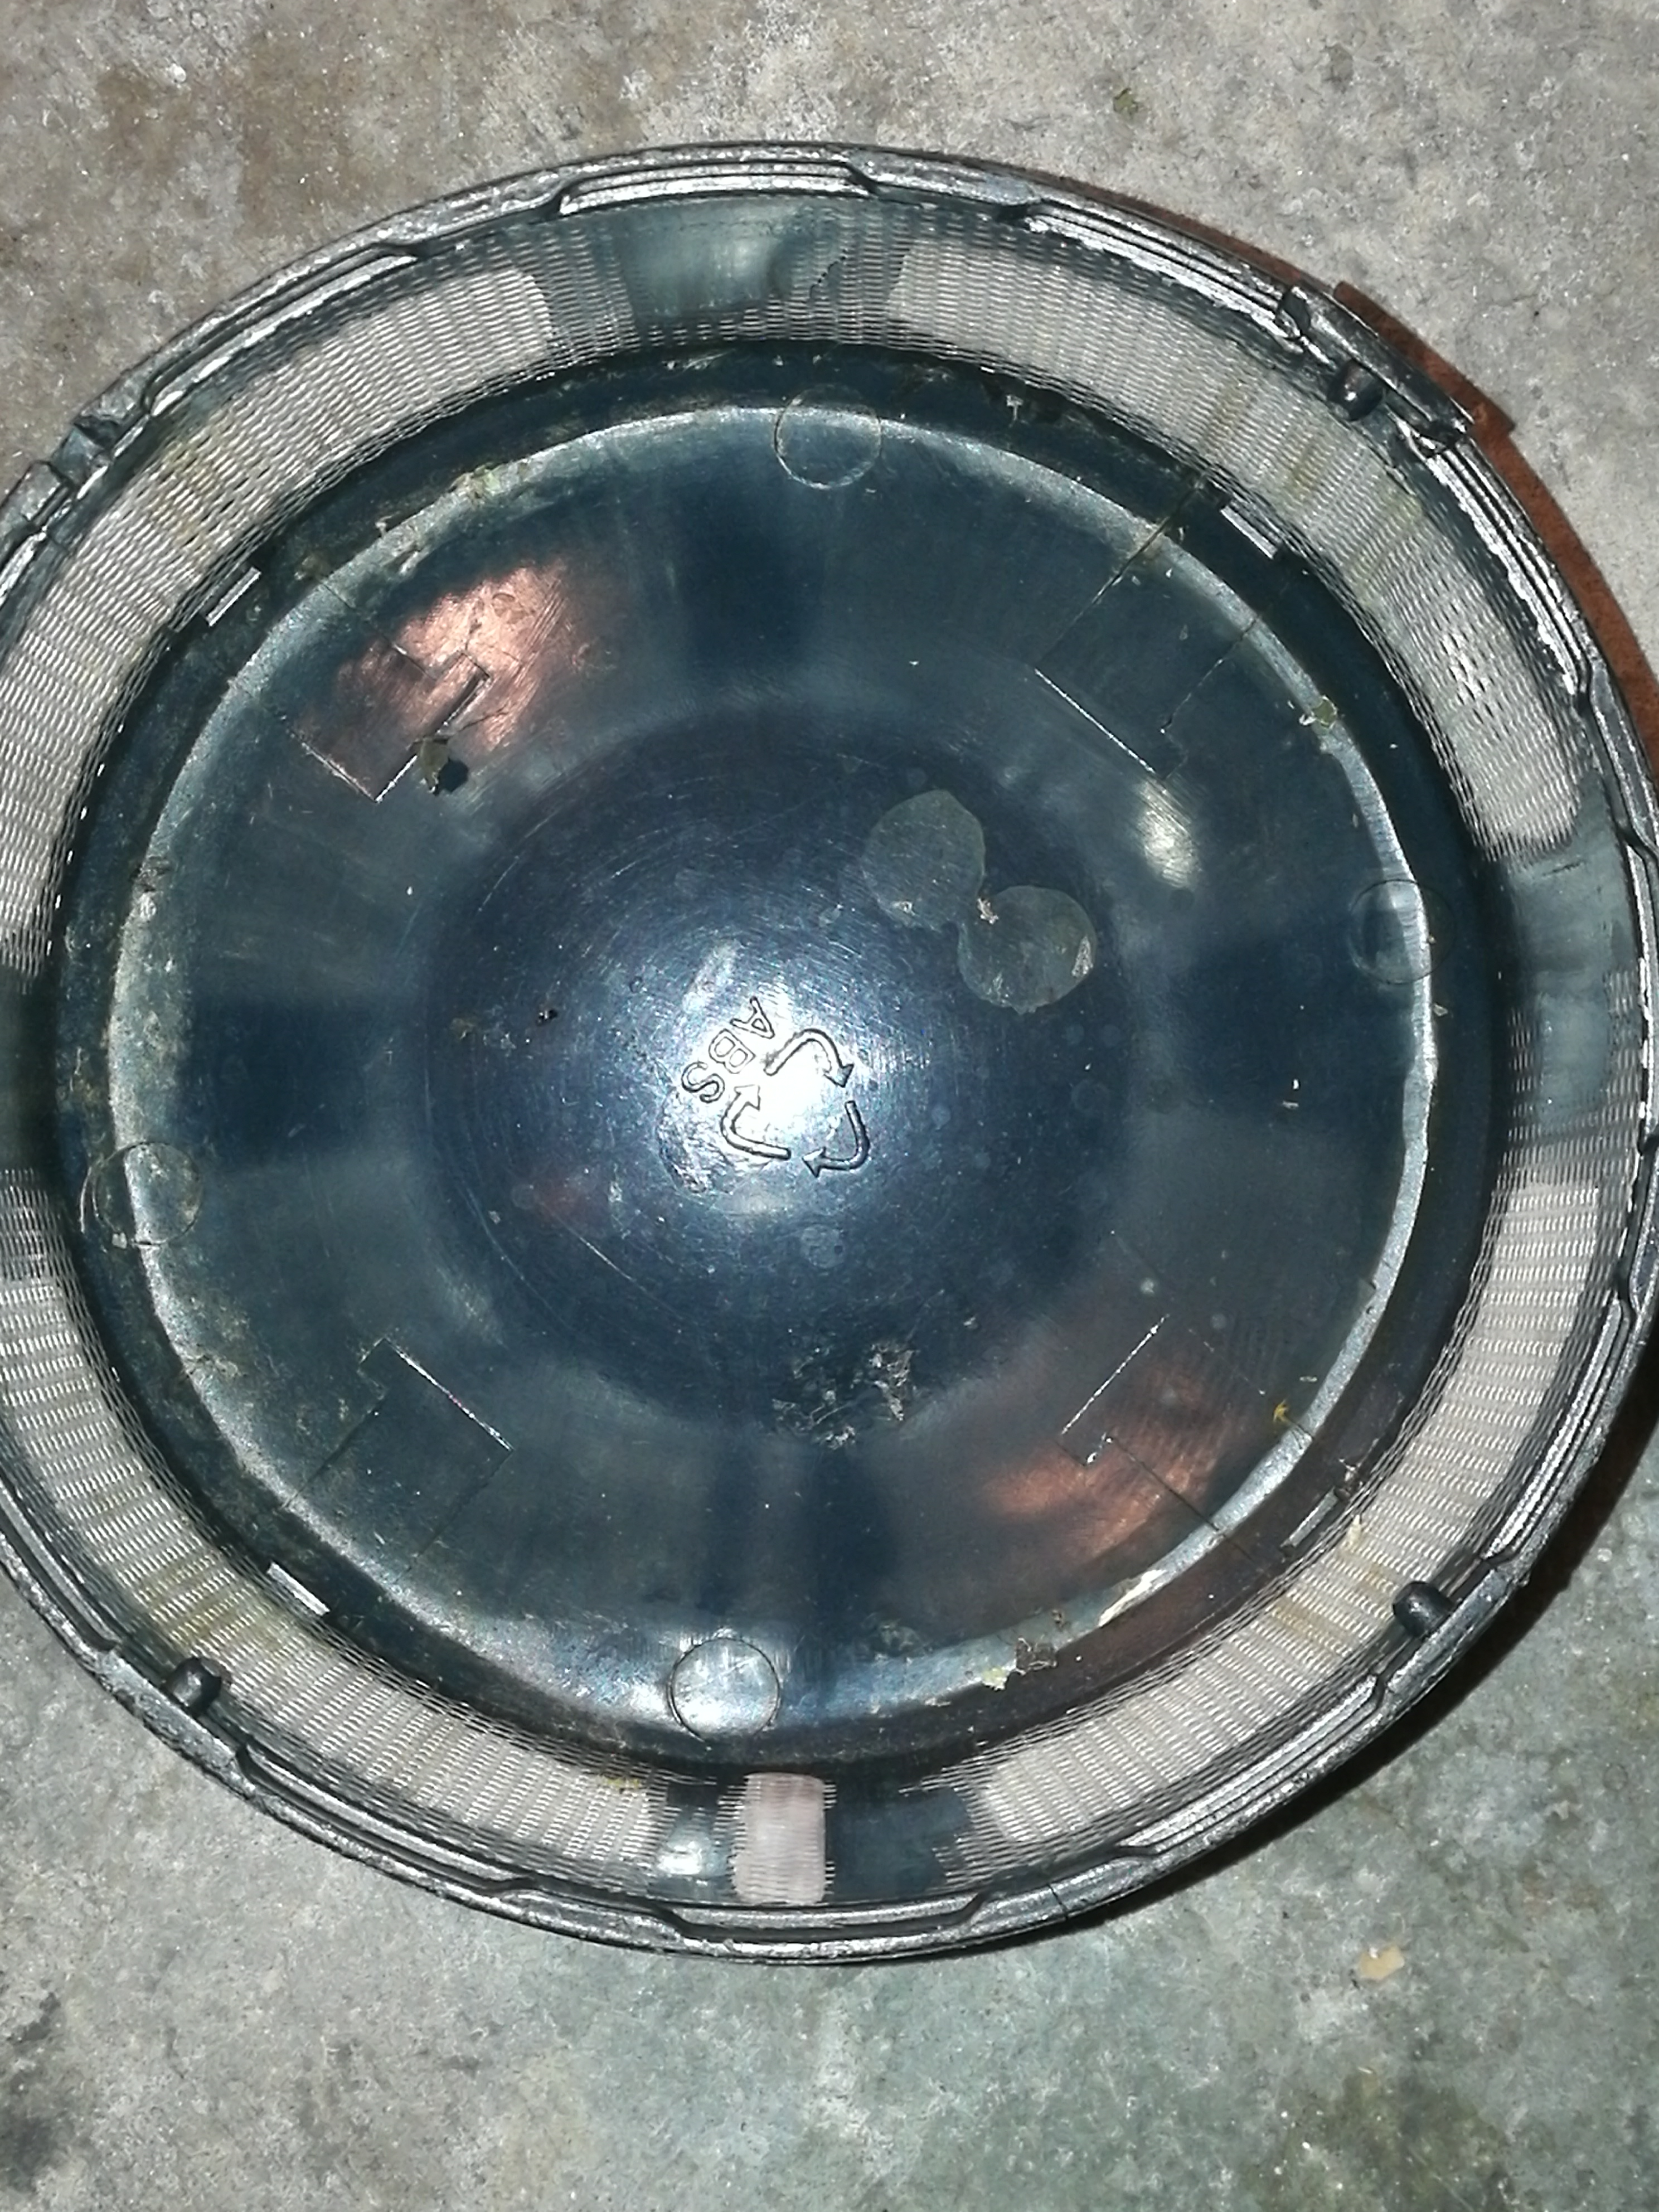moth: (408, 735, 448, 791), (1016, 1637, 1056, 1674)
